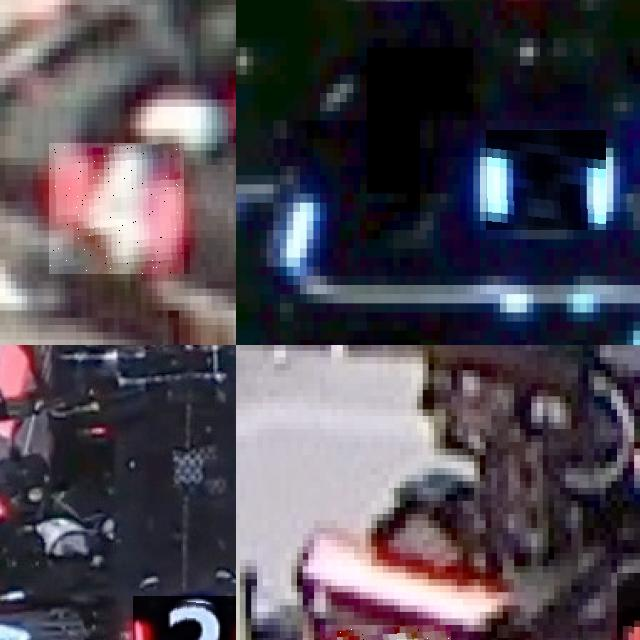Bs: (486, 130, 606, 230)
R2: (132, 596, 236, 640)
R4: (49, 143, 184, 274)
